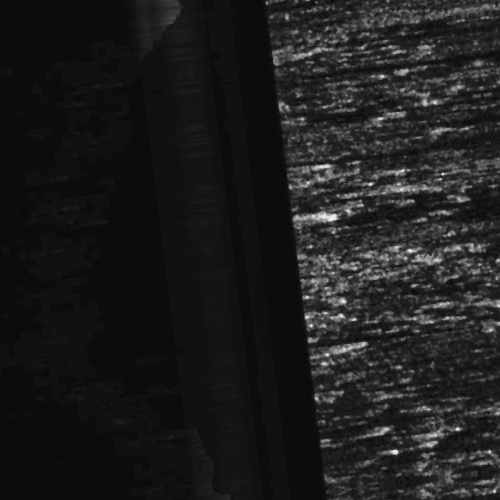object: (429, 150, 482, 155)
shadow: (301, 150, 455, 155), (409, 167, 500, 174)
